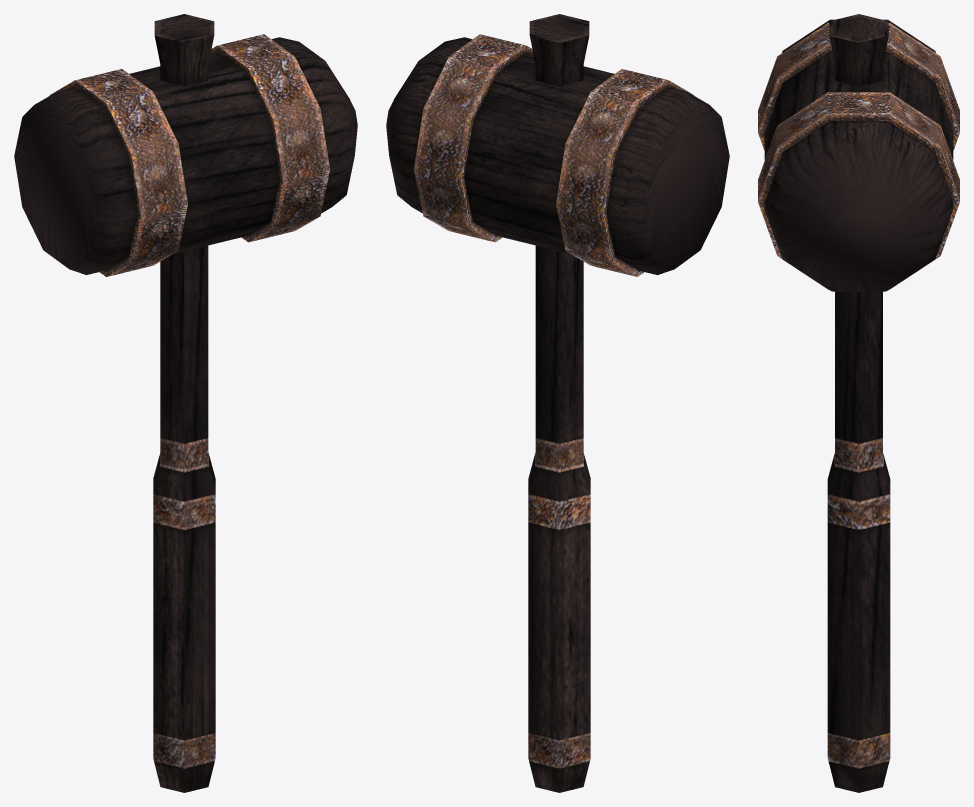
The model's file is hammer02_rusty.FBX.
3 renders of one model, left to right at view 1: azimuth 30°, elevation 25°; view 2: azimuth 150°, elevation 25°; view 3: azimuth 270°, elevation 25°, orthographic.
Visible parts, largest first — view 1: hammer02; view 2: hammer02; view 3: hammer02.
Part boxes in pixels (x1,y1,x2,y2): hammer02: [14, 14, 357, 792]; hammer02: [386, 14, 729, 792]; hammer02: [758, 14, 959, 792].
Size of the model in its own units: 0.5381 by 1.31 by 0.3189.
